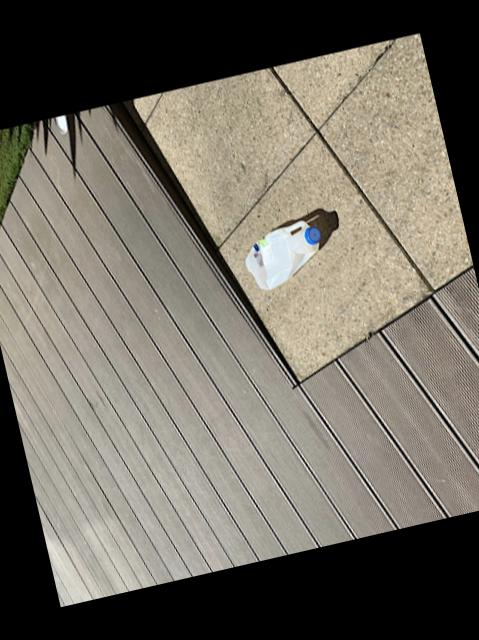plastic: (242, 220, 317, 289)
